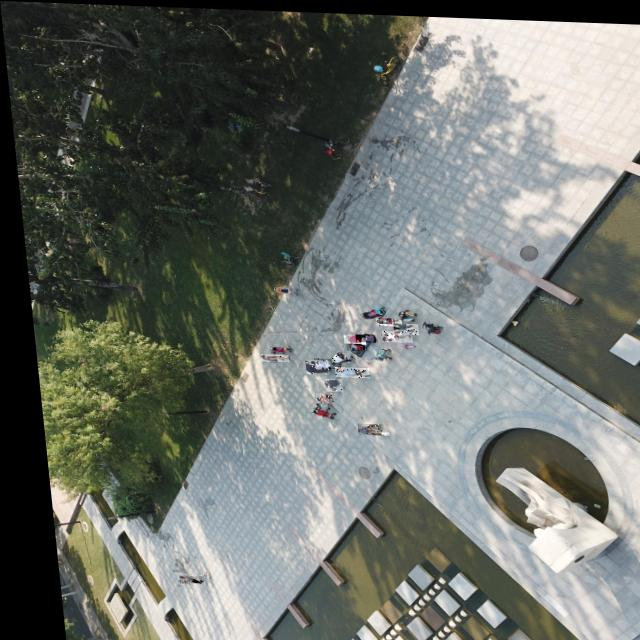Person: (327, 364, 362, 375), (298, 357, 323, 372), (375, 327, 406, 339), (306, 355, 334, 366), (349, 420, 374, 432), (387, 320, 412, 331), (317, 375, 335, 389), (324, 350, 348, 360), (336, 331, 359, 341), (167, 573, 191, 582), (369, 315, 395, 323), (253, 352, 282, 359), (307, 390, 325, 401), (348, 330, 369, 339), (339, 340, 358, 348), (376, 330, 393, 337), (264, 344, 277, 351), (308, 398, 322, 404), (386, 320, 400, 326), (364, 427, 380, 432), (372, 314, 385, 320)
